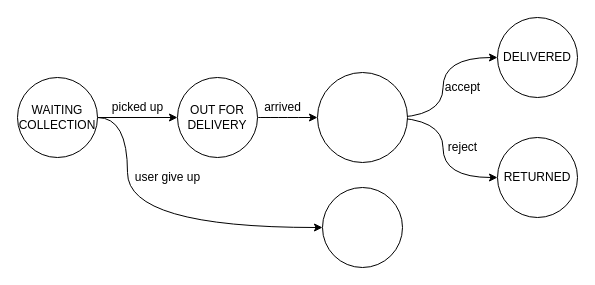
The diagram is 595 pixels wide and 285 high, and some of its shapes have lost their labels. Each missing label, with the box of its shape:
CANCELED: (322, 186, 402, 268)
WAITING ACCEPTANCE: (316, 72, 408, 162)
